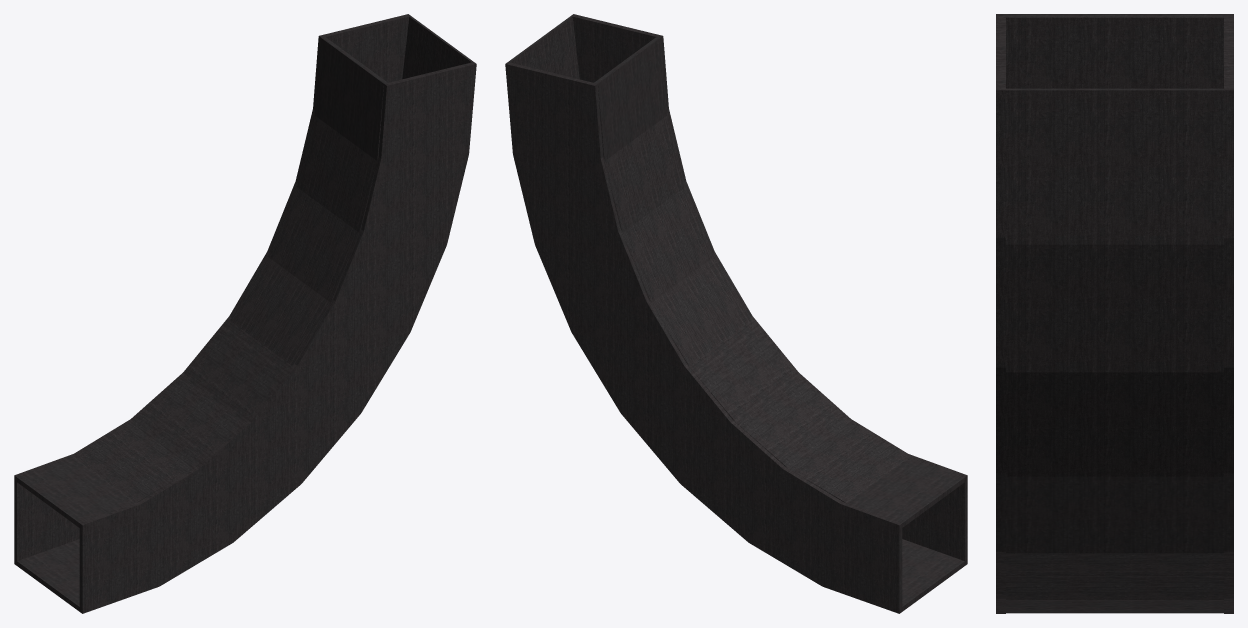
File: angled_tunnel.fbx
The picture shows the model from 3 angles, left to right: view 1: azimuth 30°, elevation 25°; view 2: azimuth 150°, elevation 25°; view 3: azimuth 270°, elevation 25°; orthographic projection. The views are drawn at different scales.
Parts seen in each view (by area): view 1: Object; view 2: Object; view 3: Object.
Part boxes in pixels (x1,y1,x2,y2): Object: [14, 14, 476, 613]; Object: [505, 14, 967, 613]; Object: [996, 14, 1233, 613].
Size of the model in its own units: 8000 by 8800 by 2400.
